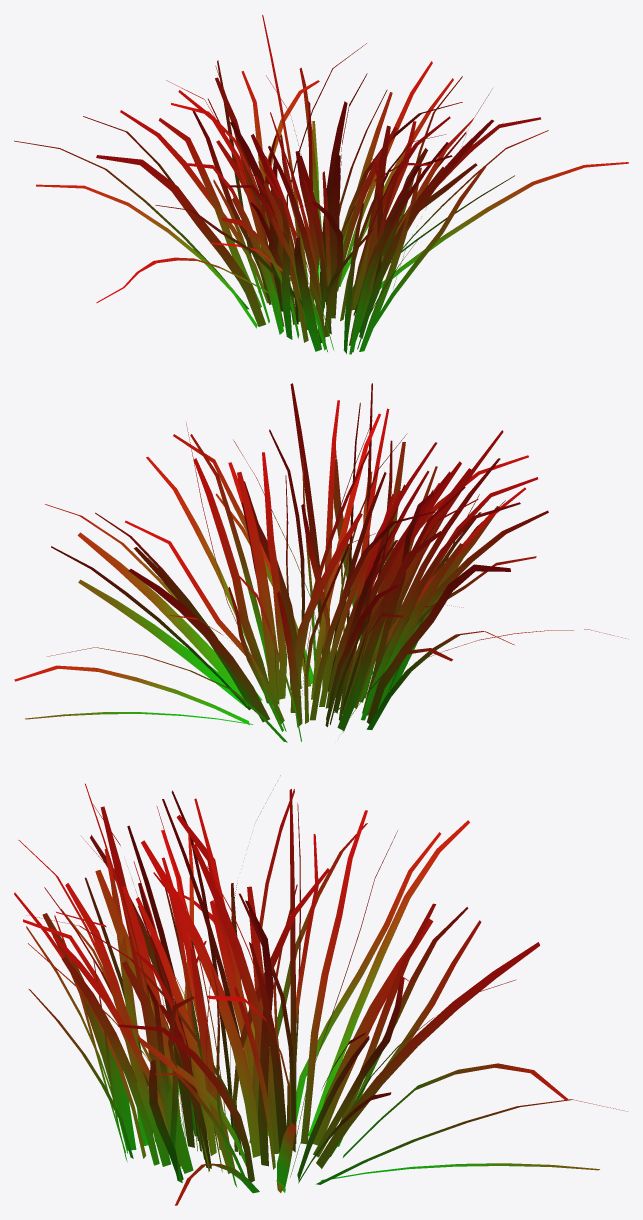
The model's file is Wild Grass_LOD1_Var8_vlkhcbxia.fbx.
3 views of the same model, one above another, from view 1: azimuth 30°, elevation 25°; view 2: azimuth 150°, elevation 25°; view 3: azimuth 270°, elevation 25° (orthographic). The views are drawn at different scales.
Visible parts, largest first — view 1: _q129_Var8_LOD1; view 2: _q129_Var8_LOD1; view 3: _q129_Var8_LOD1.
Boxes of the visible parts, left/top/right/bottom form: _q129_Var8_LOD1: left=14, top=15, right=628, bottom=354; _q129_Var8_LOD1: left=14, top=383, right=628, bottom=742; _q129_Var8_LOD1: left=14, top=775, right=627, bottom=1205.
Size of the model in its own units: 25.38 by 11.2 by 19.67.
